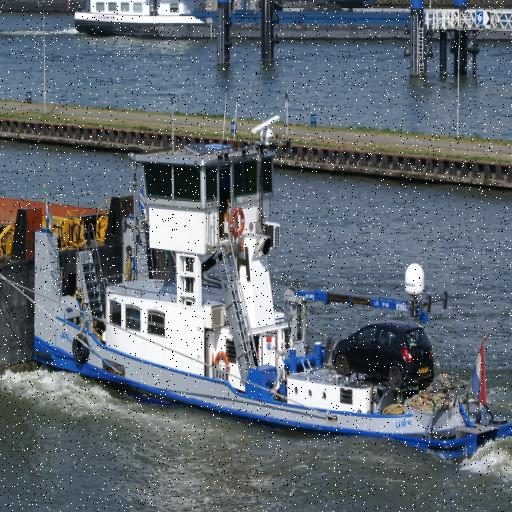tugboat: (30, 114, 512, 470)
